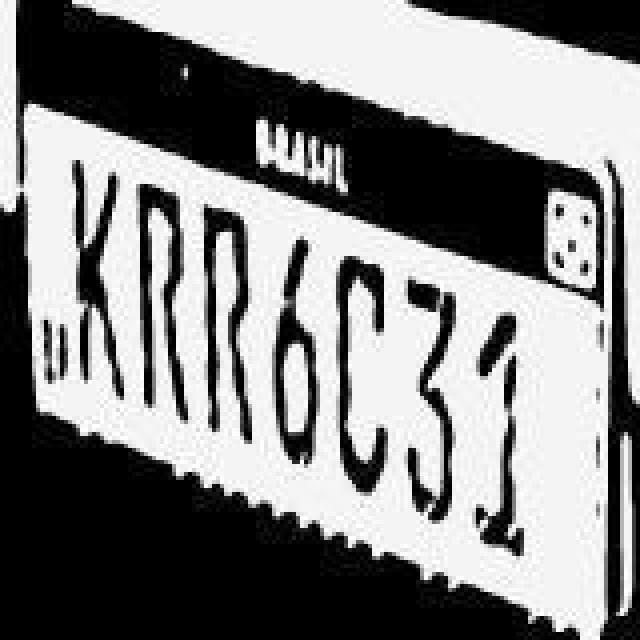1: (474, 310, 526, 562)
3: (406, 276, 458, 524)
6: (268, 234, 316, 462)
C: (332, 256, 388, 496)
K: (66, 156, 126, 396)
R: (200, 202, 256, 446), (136, 184, 192, 424)
